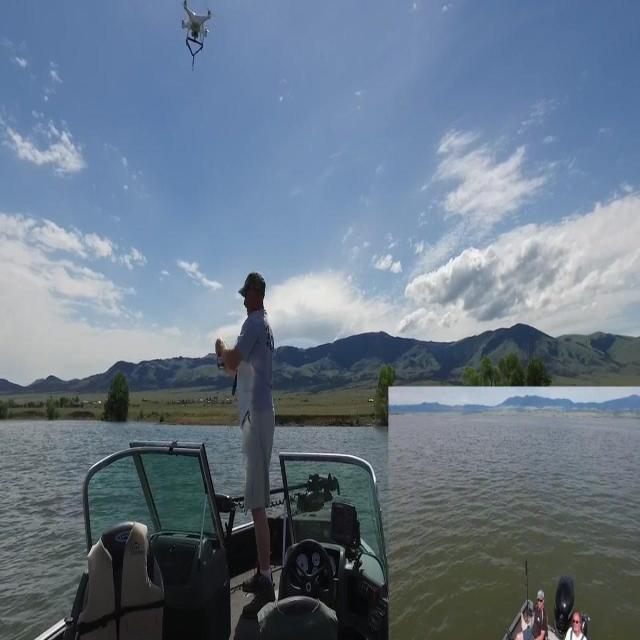drone: (180, 0, 212, 74)
